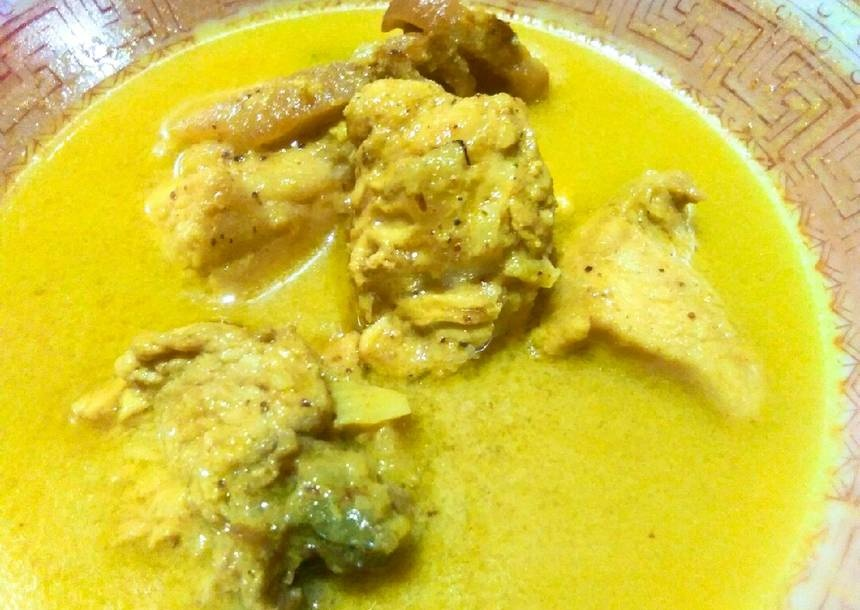gulai_ayam: (8, 13, 834, 600)
